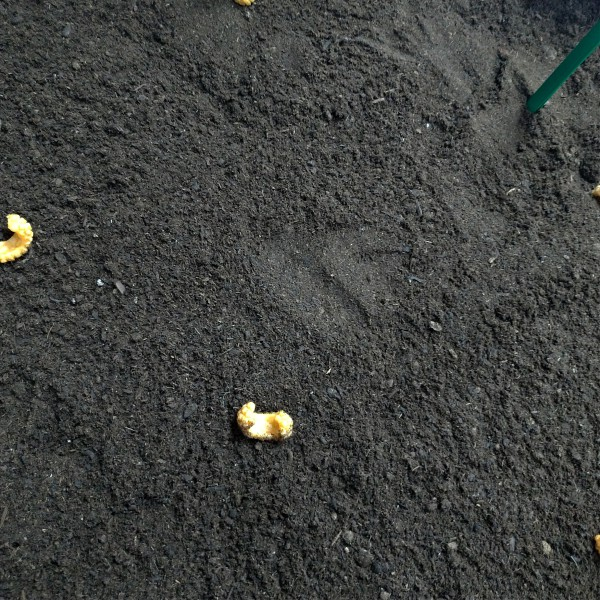eggs: (231, 400, 297, 445), (1, 209, 38, 266)
